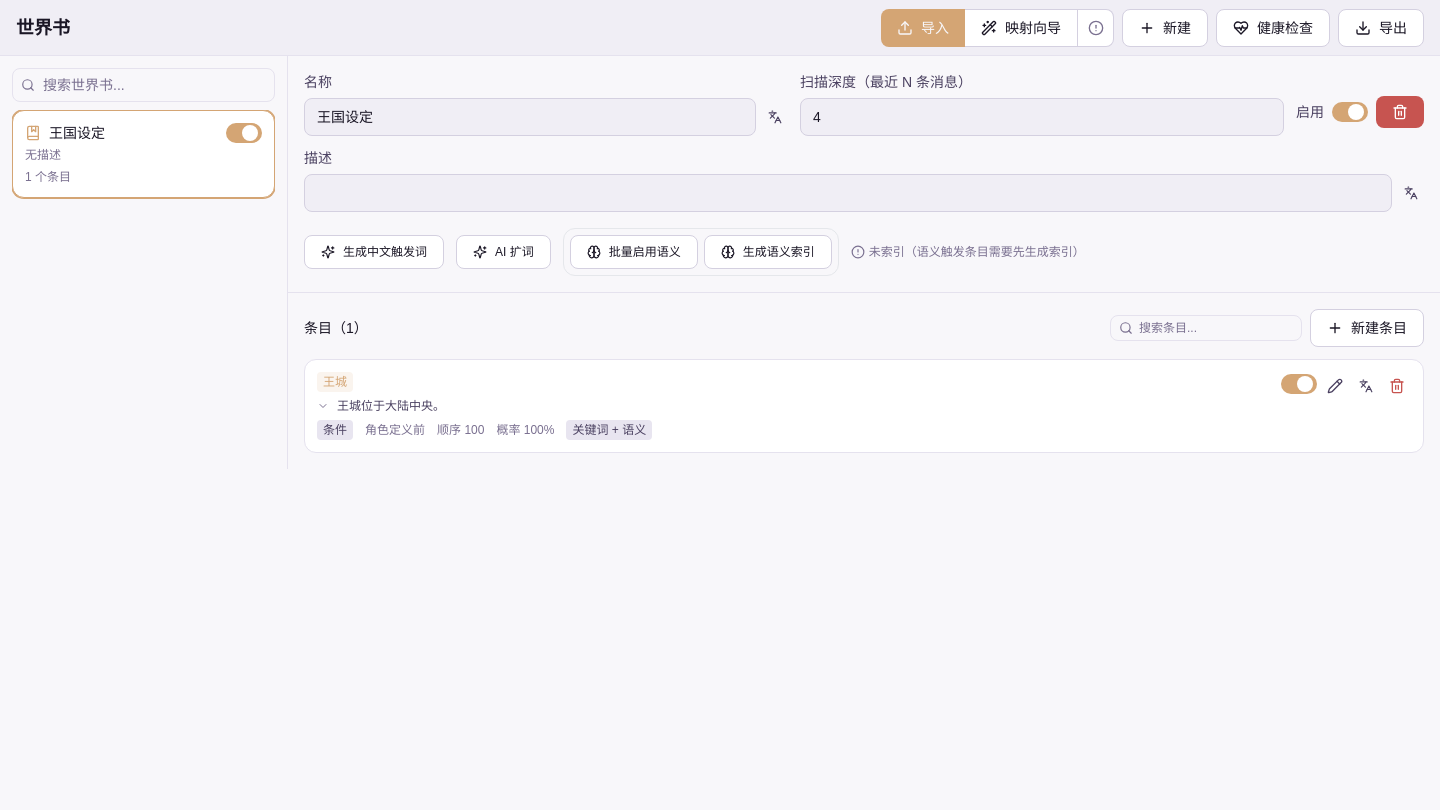
Test: LorebookPage › 点击编辑条目时使用角色卡风格的模态窗口
Expected: the text "王城位于大陆中央。" is shown, left=337, top=398, right=445, bottom=414
Click the button titled "编辑": (1335, 386) left=1321, top=372, right=1349, bottom=400
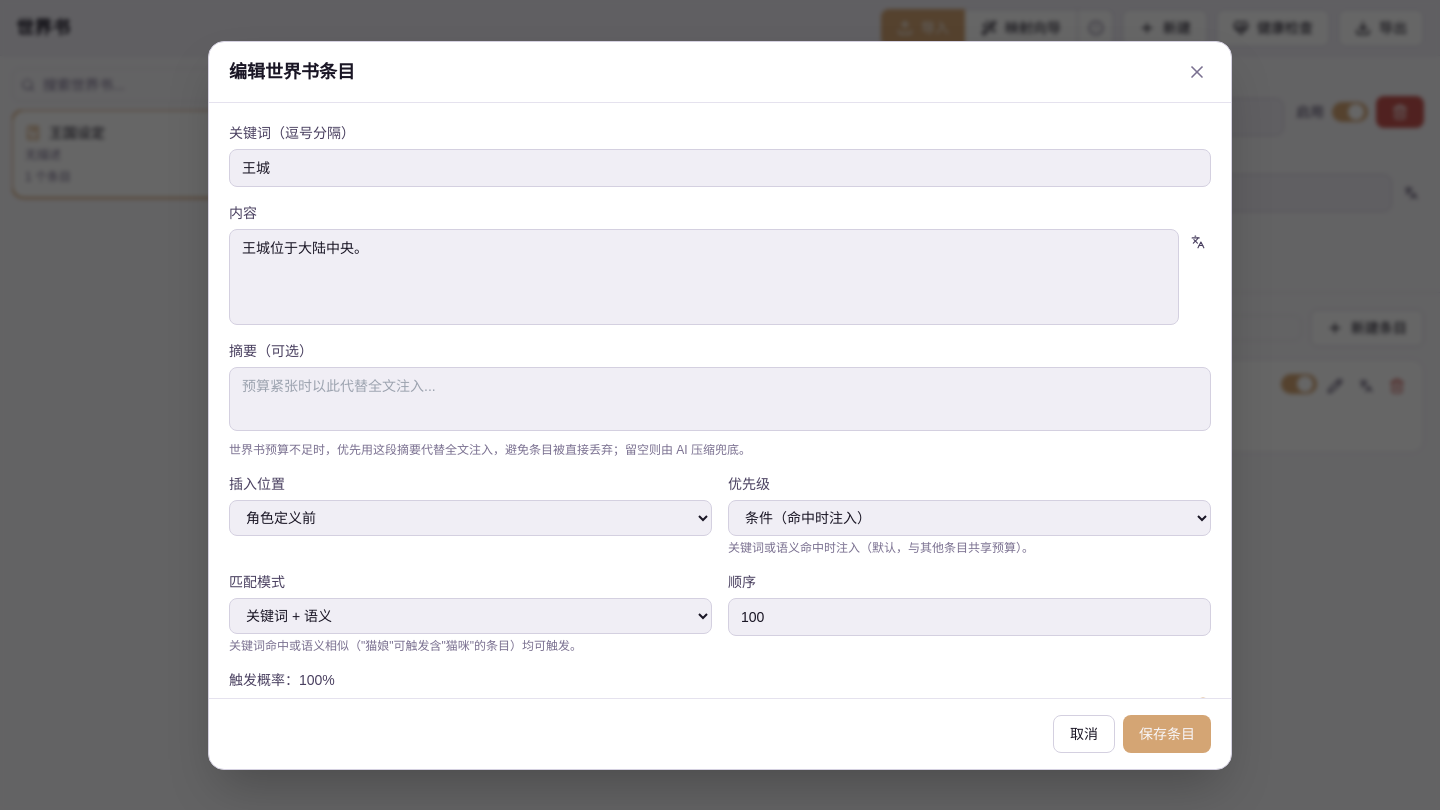
Now the dialog "编辑世界书条目" is shown
Now the button "保存条目" is shown
Click the button "保存条目": (1167, 734) left=1123, top=714, right=1211, bottom=752
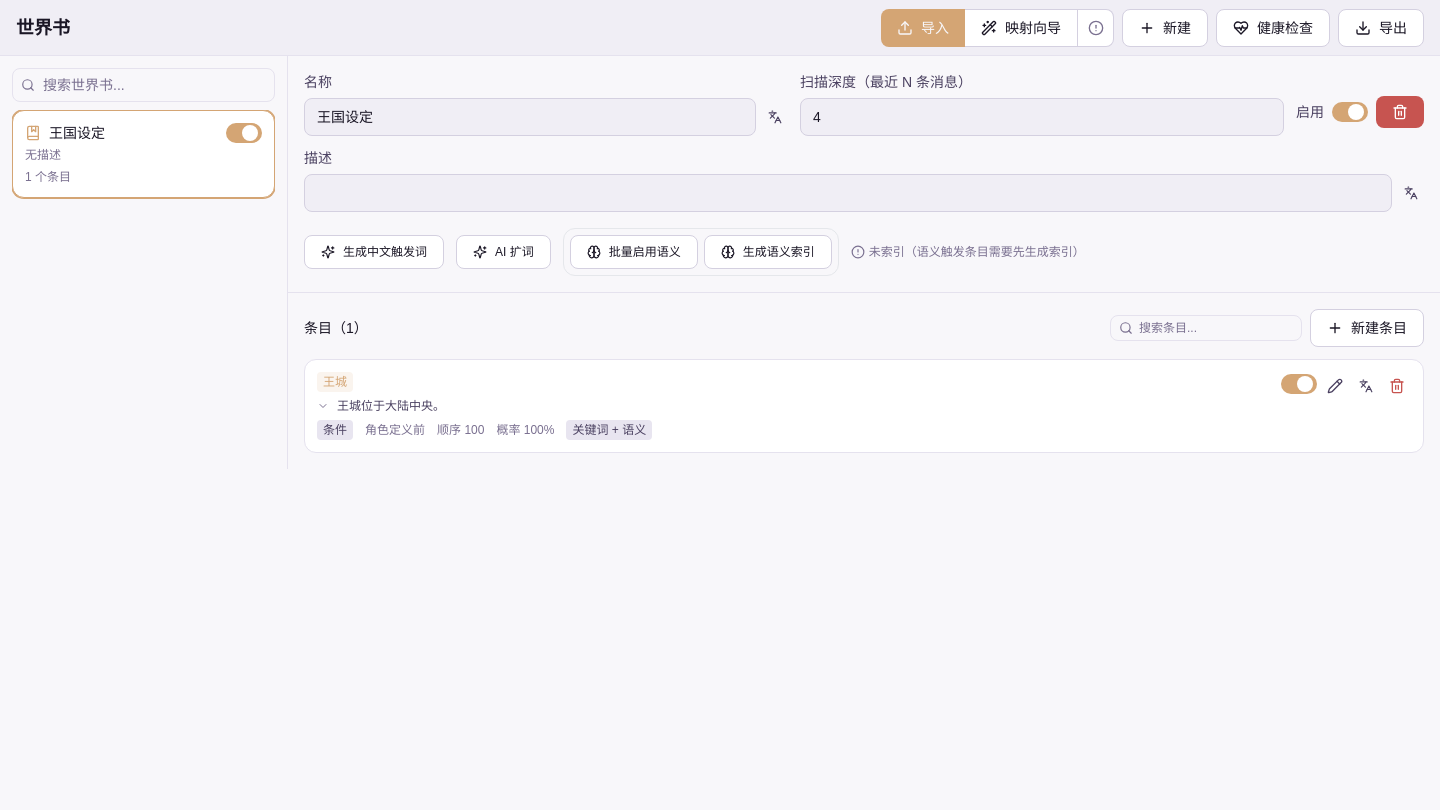
Now the heading "编辑世界书条目" is gone
